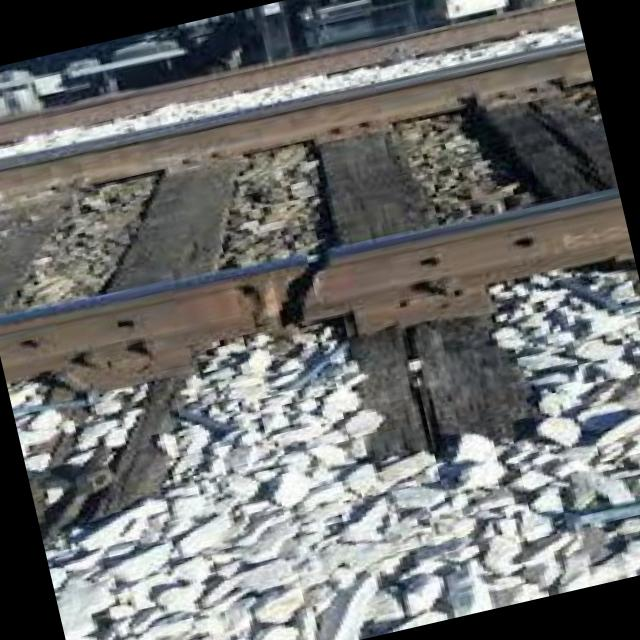defective: (31, 69, 576, 522)
